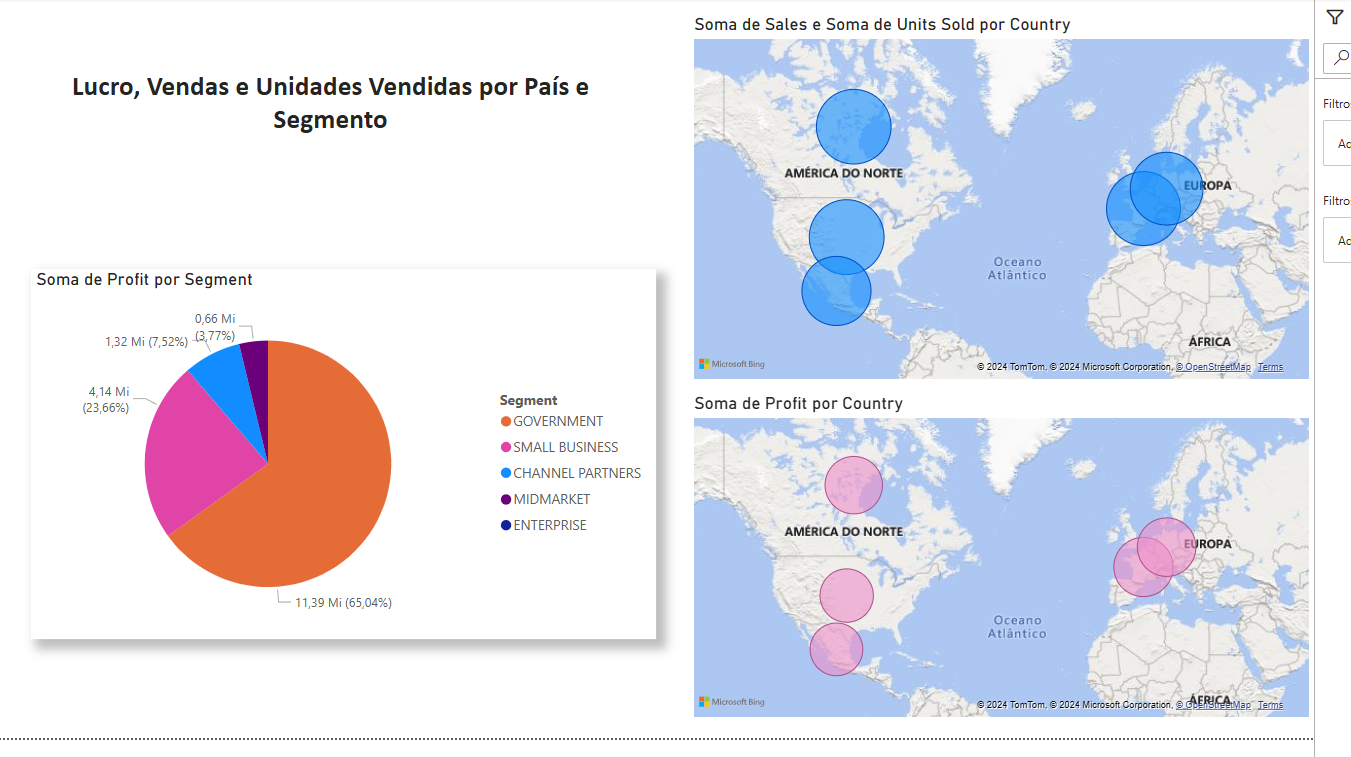

The page's visual inventory and layout, read from the dashboard file:
{"tool":"powerbi","page":{"name":"Página 3","canvas":[1280,720],"ordinal":2},"visuals":[{"type":"map","fields":{"Category":["financials.Country"],"Size":["Sum(financials. Sales)"]},"box":[672,16,608,360],"z":0},{"type":"map","fields":{"Category":["financials.Country"],"Size":["Sum(financials.Profit)"]},"box":[672,384,608,320],"z":1},{"type":"pieChart","fields":{"Category":["financials.Segment"],"Y":["Sum(financials.Profit)"]},"box":[32,264,608,360],"z":2},{"type":"textbox","box":[16,64,616,88],"z":3}]}

Visuals, with their boxes on the page's 1280x720 design canvas (x1, y1, x2, y2). These are canvas units, not pixel positions in the 1351x757 screenshot, which may show the page scaled, cropped or inside an application window:
map - financials.Country x Sum(financials. Sales): locate(672, 16, 1280, 376)
map - financials.Country x Sum(financials.Profit): locate(672, 384, 1280, 704)
pieChart - financials.Segment x Sum(financials.Profit): locate(32, 264, 640, 624)
textbox: locate(16, 64, 632, 152)
